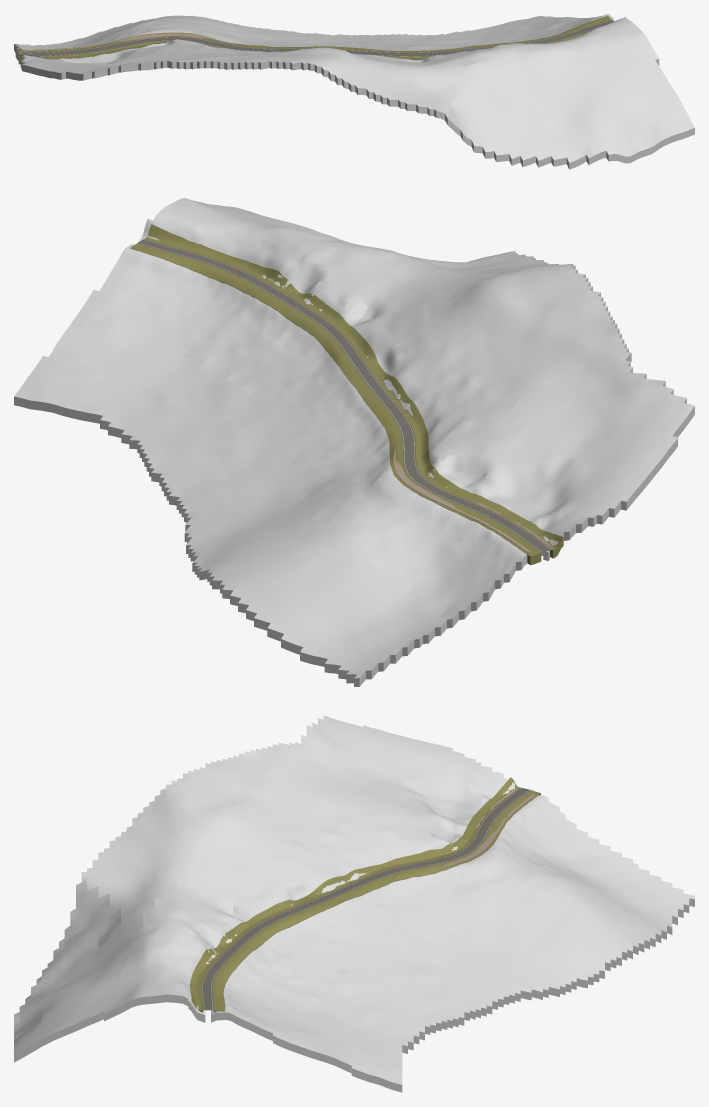
File: conz_21.glb
The picture shows the model from 3 angles, top to bottom: view 1: azimuth 30°, elevation 25°; view 2: azimuth 150°, elevation 25°; view 3: azimuth 270°, elevation 25°; orthographic projection. The views are drawn at different scales.
Parts seen in each view (by area): view 1: terrain21, road21, verge21R, verge21L, lot_gravel_s121; view 2: terrain21, verge21L, verge21R, road21, lot_gravel_s121; view 3: terrain21, verge21L, verge21R, road21.
Boxes of the visible parts, x1,y1,x2,y2 form: terrain21: [14, 14, 694, 169]; road21: [18, 19, 613, 57]; verge21R: [18, 16, 611, 59]; verge21L: [18, 32, 587, 64]; lot_gravel_s121: [24, 33, 223, 51]; terrain21: [14, 198, 694, 686]; verge21L: [144, 224, 563, 558]; verge21R: [130, 243, 541, 565]; road21: [137, 239, 552, 552]; lot_gravel_s121: [393, 449, 531, 552]; terrain21: [14, 715, 694, 1092]; verge21L: [190, 777, 519, 1012]; verge21R: [212, 790, 540, 1012]; road21: [201, 787, 530, 1010].
Size of the model in its own units: 230 by 63.43 by 242.
